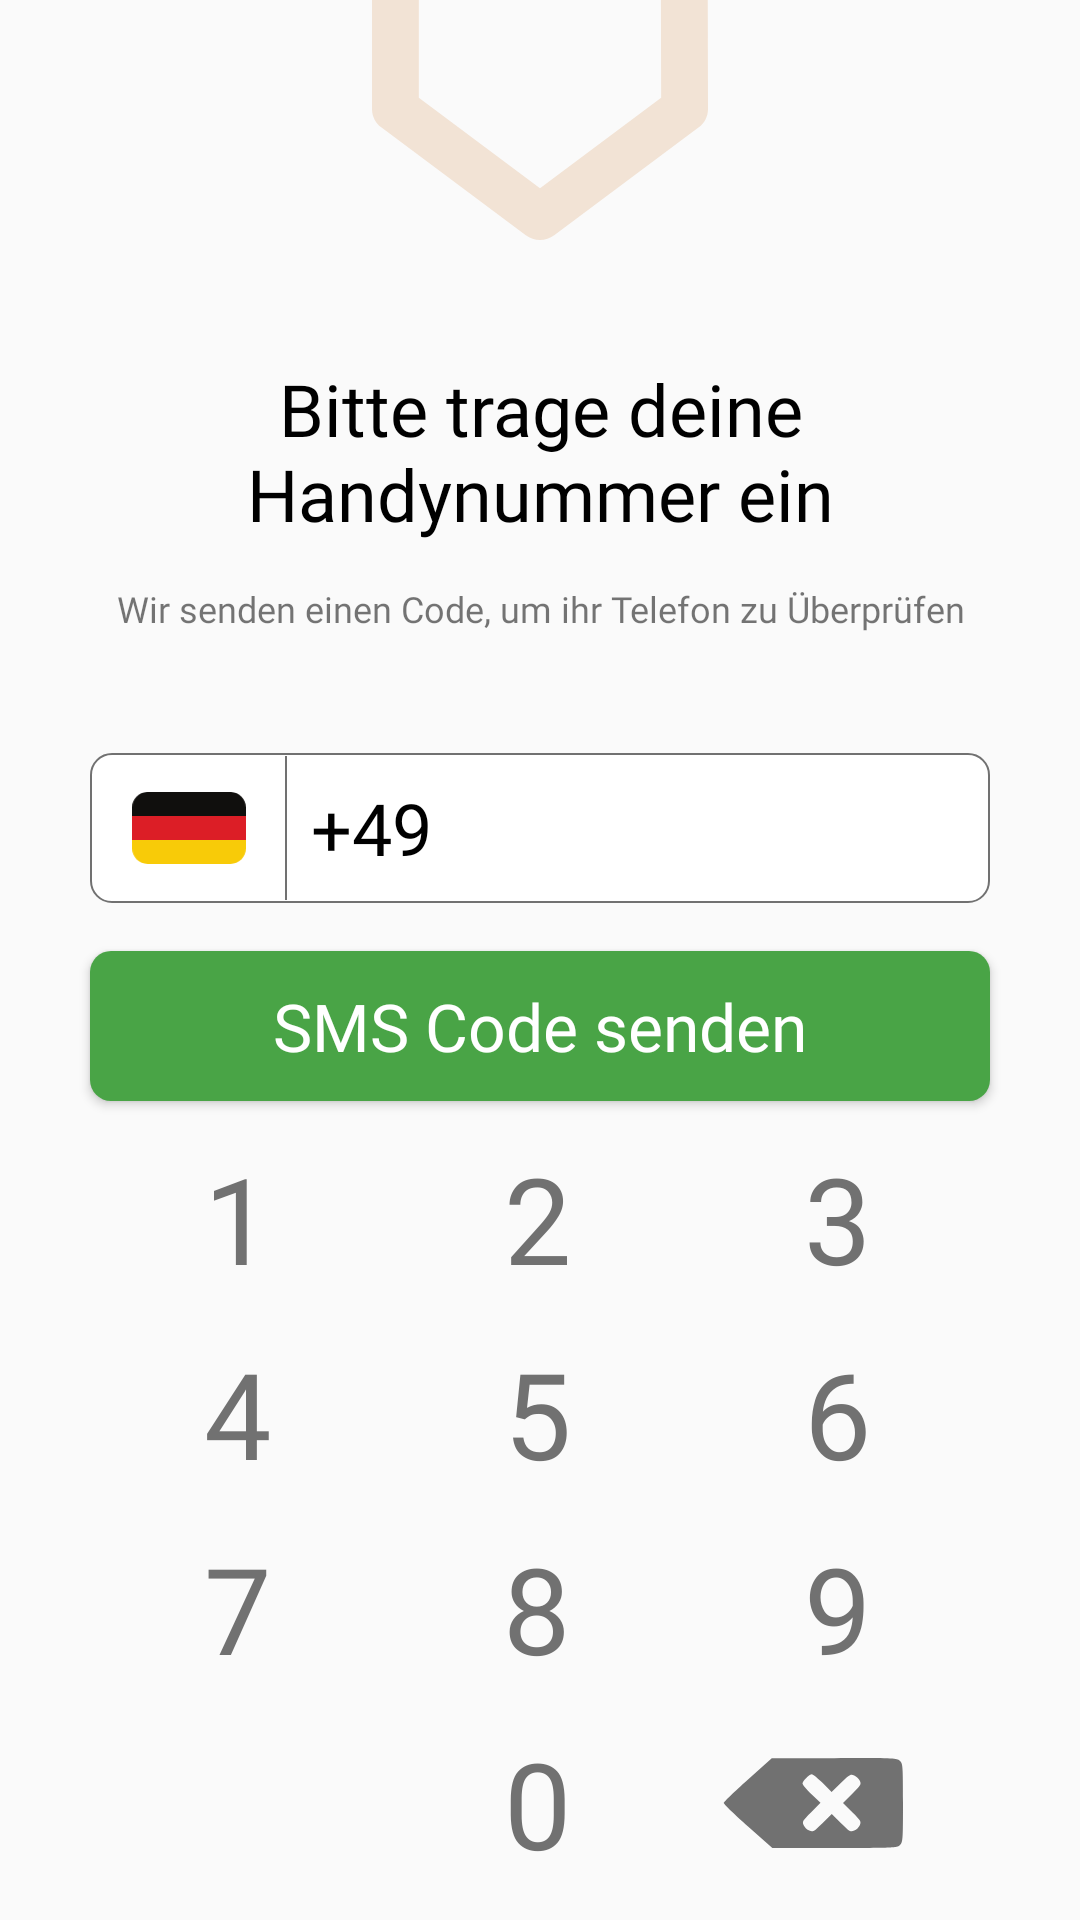

Icons on this 1080×1920 Android screen, each with its box as BBox(x1, y1, x2, y2):
clear: BBox(724, 1758, 903, 1848)
german flag: BBox(132, 792, 246, 864)
